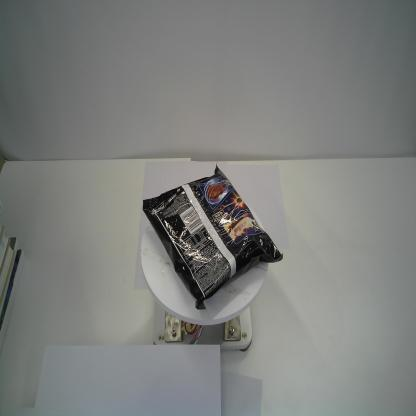Instant Noodles: (140, 160, 286, 313)
